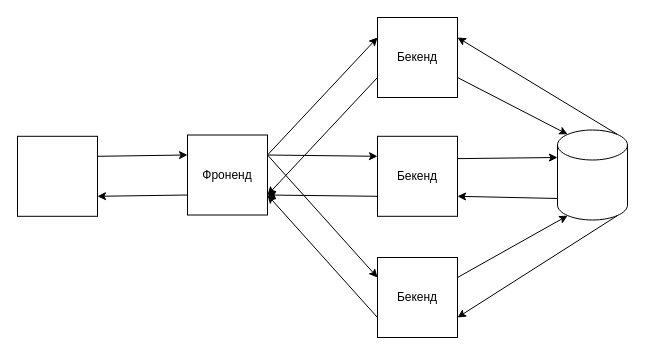
This 645x355 diagram has some shape labels left out. The shapes that lost their labels are listed below. From the top down, each one's centre as x and y in pixels, then its label:
At (x=57, y=175): "Клиент".
At (x=592, y=174): "БД".
